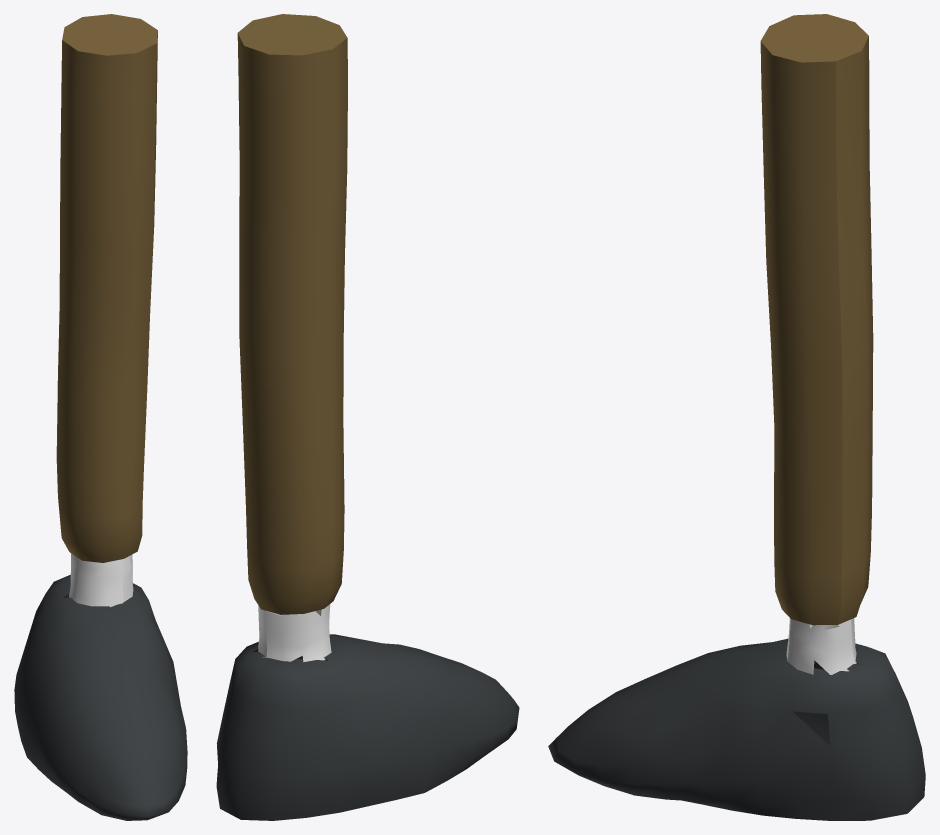
Rendered from RodillaDer.obj.
3 views of the same model, side by side, from view 1: azimuth 30°, elevation 25°; view 2: azimuth 150°, elevation 25°; view 3: azimuth 270°, elevation 25° (orthographic). The views are drawn at different scales.
Parts seen in each view (by area): view 1: RodillaDer_Mesh_Body_0.006; view 2: RodillaDer_Mesh_Body_0.006; view 3: RodillaDer_Mesh_Body_0.006.
Boxes of the visible parts, left/top/right/bottom form: RodillaDer_Mesh_Body_0.006: left=14, top=14, right=187, bottom=820; RodillaDer_Mesh_Body_0.006: left=216, top=14, right=519, bottom=820; RodillaDer_Mesh_Body_0.006: left=548, top=14, right=925, bottom=820.
Bounding box in the file's own units: 0.1244 × 0.5016 × 0.2249.
1 material, 1 textured.
